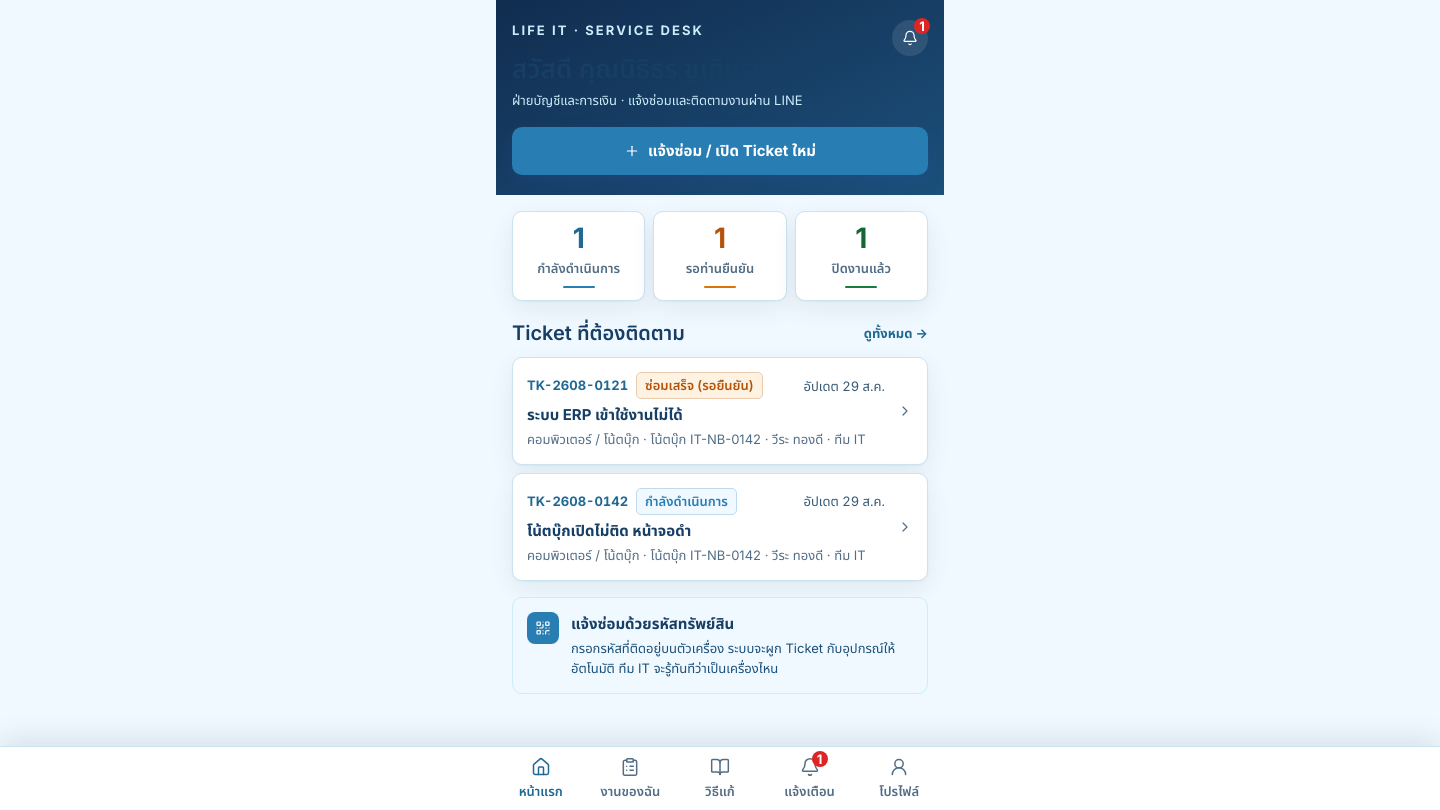
it: LinePortalPage › ล้างป้ายจำนวนแจ้งเตือนเมื่อเปิดแท็บ และจำเวลาที่อ่านไว้
This screenshot has width=1440, height=810.
Step 1. Click the button named "การแจ้งเตือน 1 รายการที่ยังไม่ได้อ่าน" → (910, 38), box [892,20,928,56]
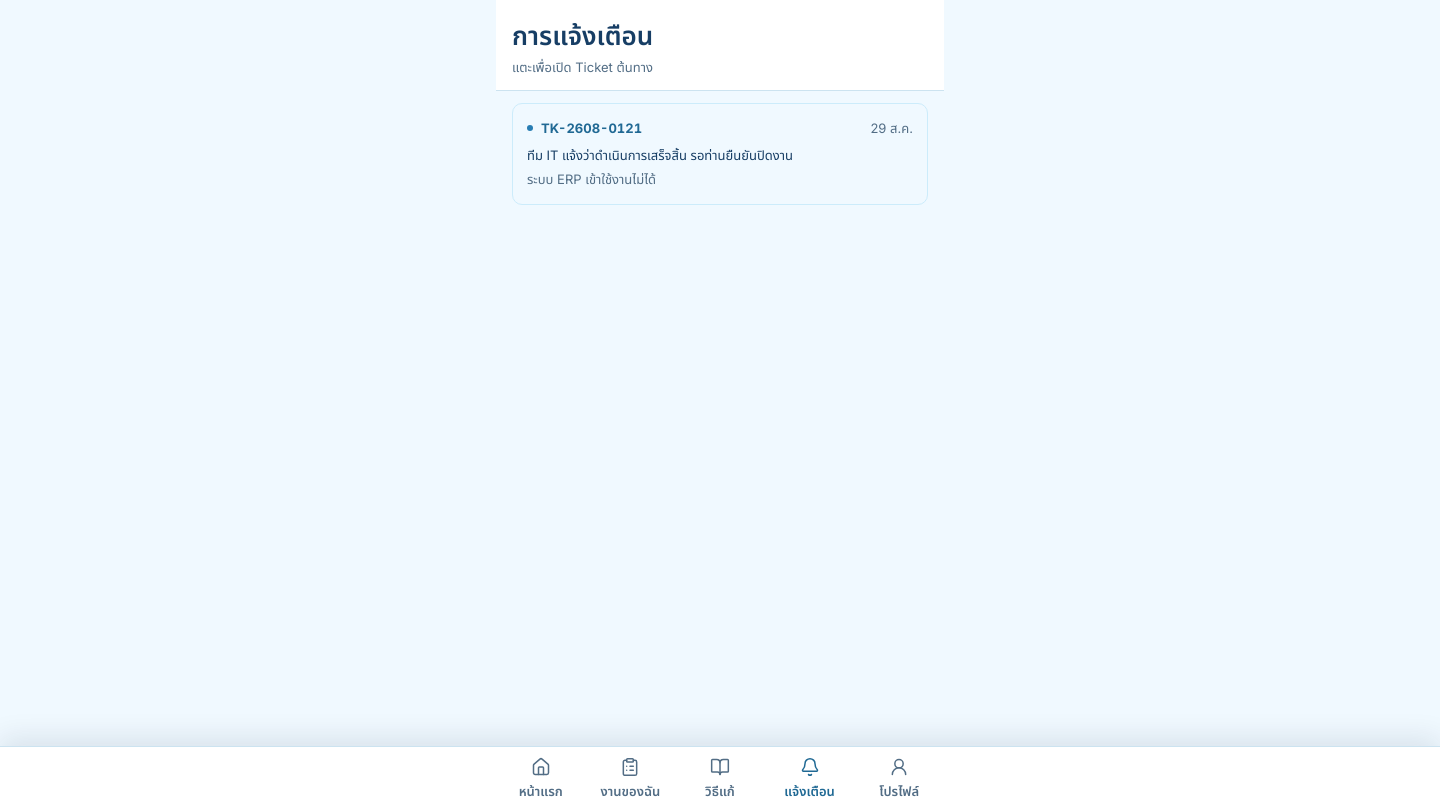
Now the text "ทีม IT แจ้งว่าดำเนินการเสร็จสิ้น รอท่านยืนยันปิดงาน" is shown, box [527,147,793,163]
Step 2. Click the button "หน้าแรก" → (541, 779), box [496,747,586,809]
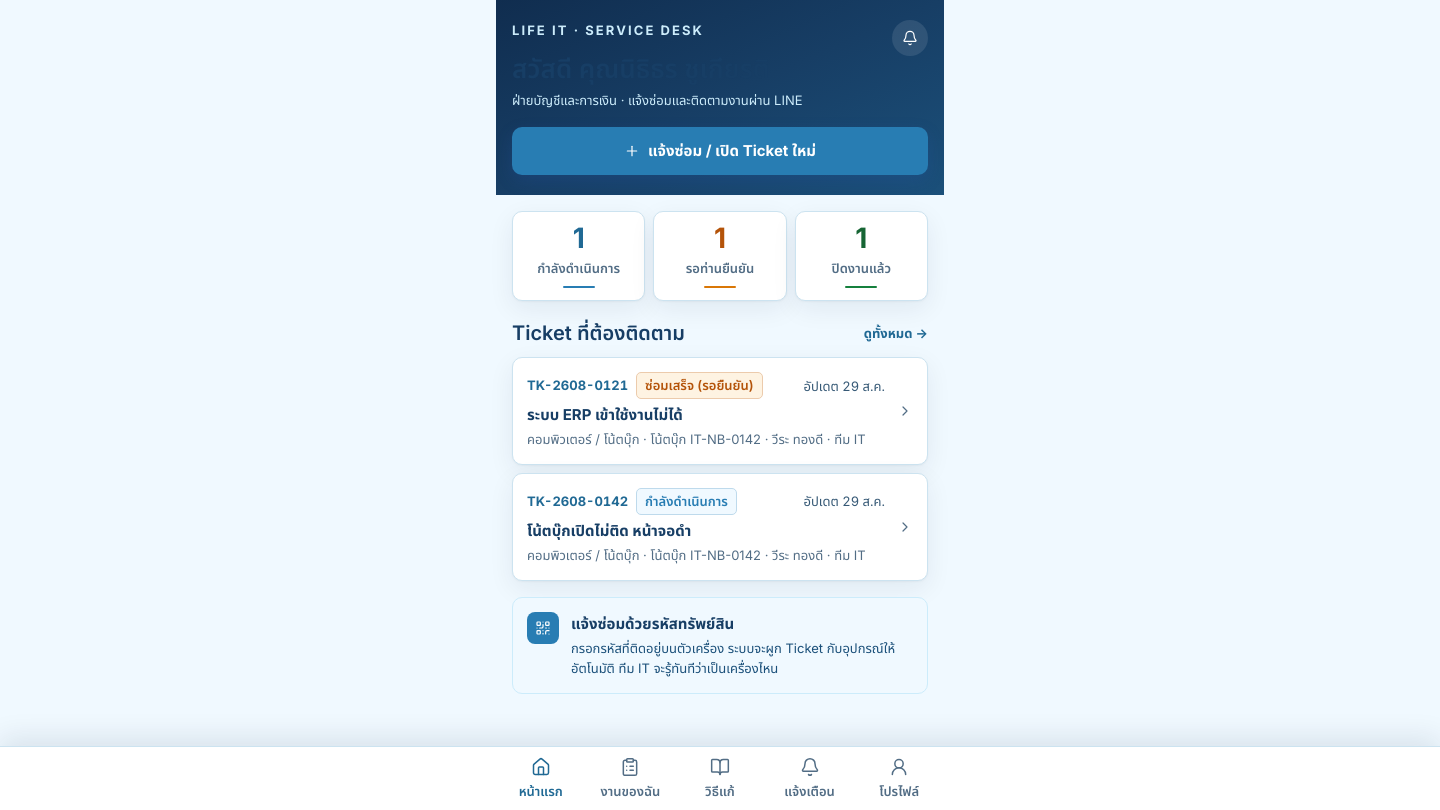
Now the button named "การแจ้งเตือน" is shown, box [892,20,928,56]
